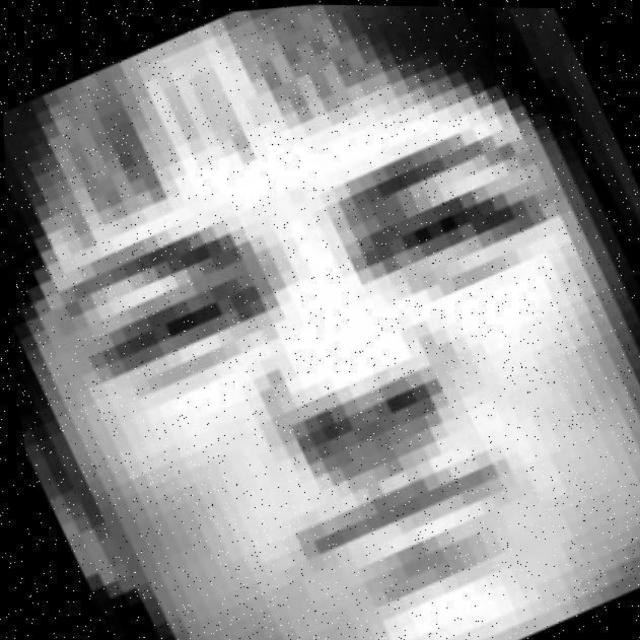Disgust: (16, 61, 640, 640)
